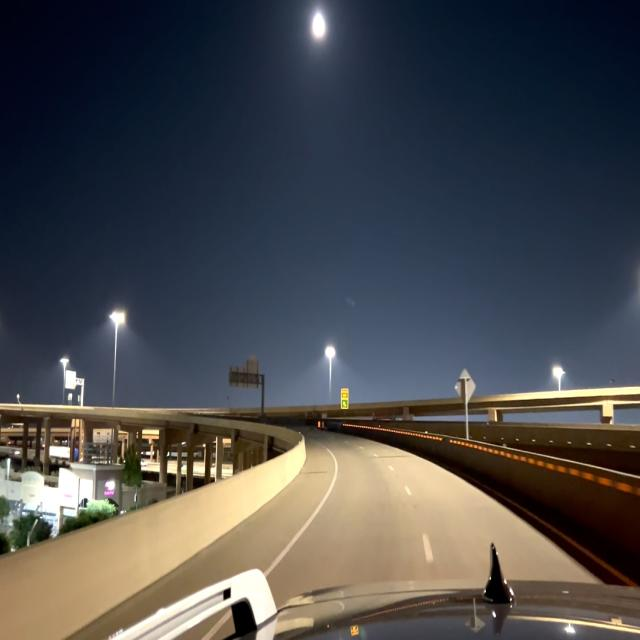back-of-sign: (455, 368, 477, 405)
